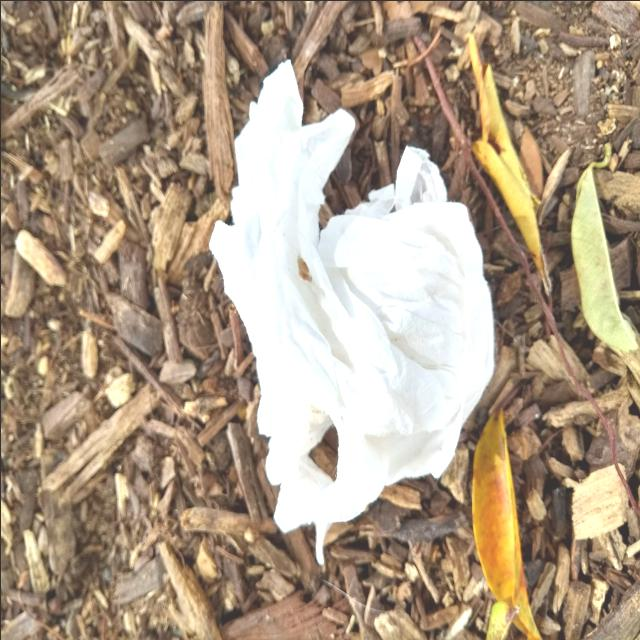Tissues: (209, 59, 493, 563)
